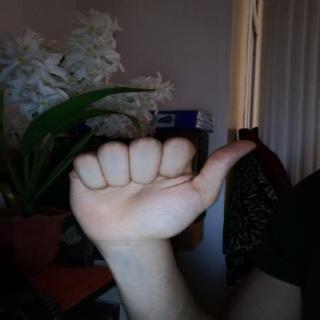DAD: (58, 127, 268, 248)
